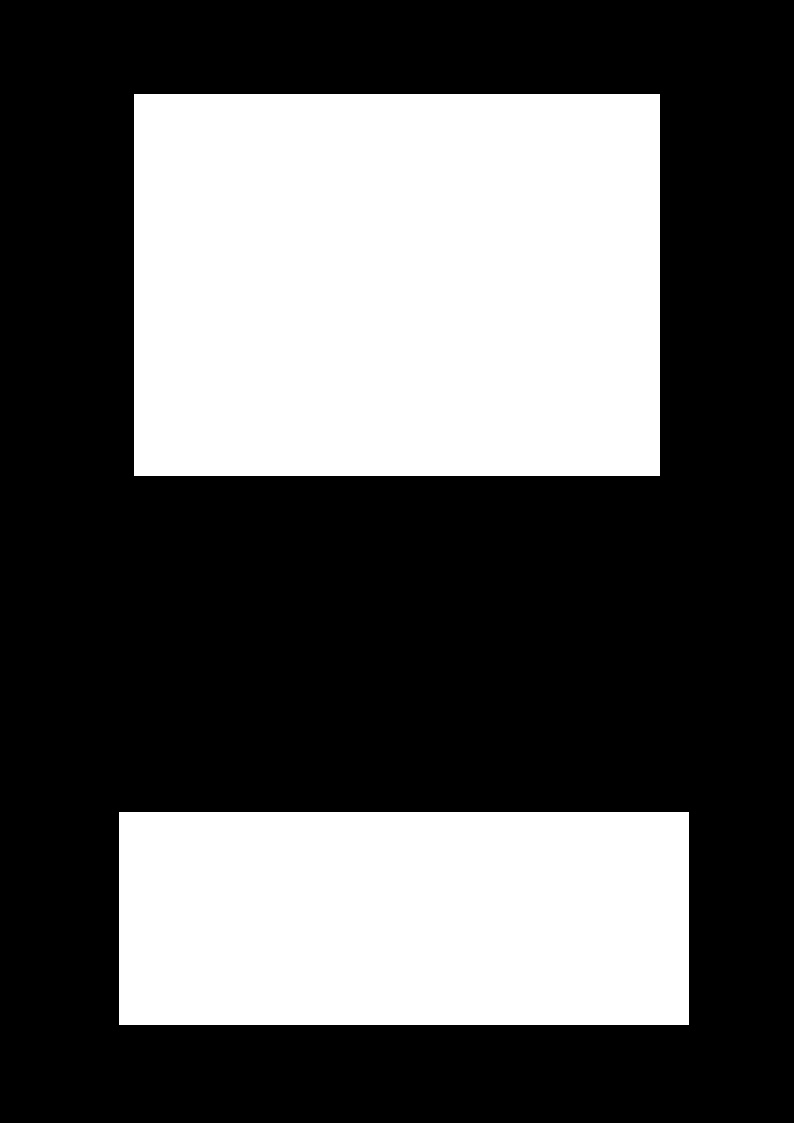table: (134, 94, 659, 475), (119, 812, 688, 1024)
